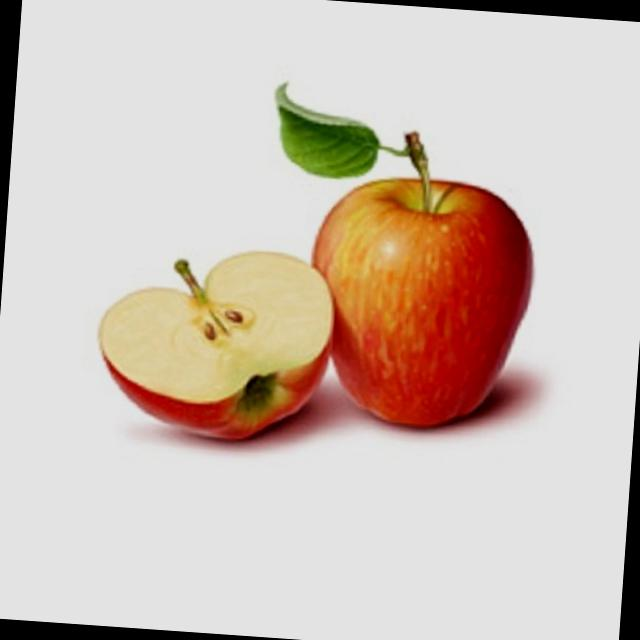apple: (290, 166, 541, 452)
